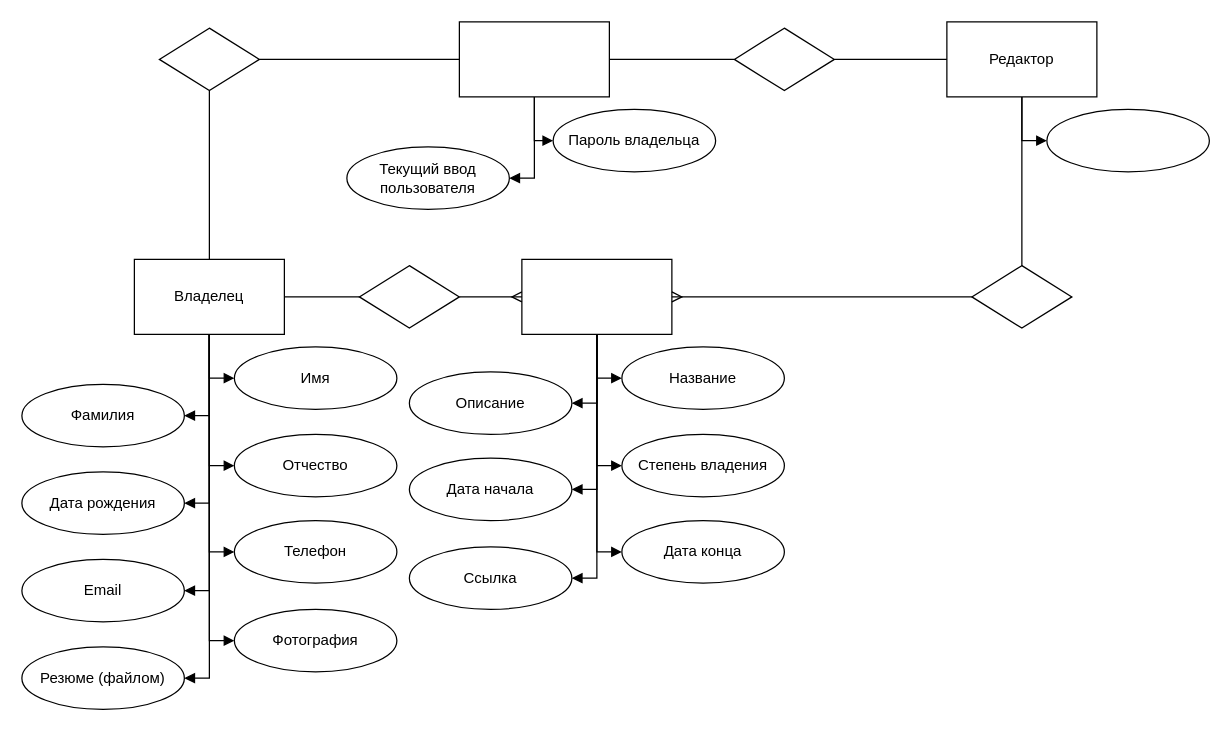
Image size: 1231x731. Some labels were removed from this diagram. The shapes that lost their labels are listed below. From the top down, each one's centre as x and y in pixels, then its label:
the point at 208,59: Определяет
the point at 533,59: Контроллер
the point at 783,59: Включает
the point at 1127,140: Новые данные
the point at 408,296: Владеет
the point at 596,296: Навык
the point at 1021,296: Изменяет
